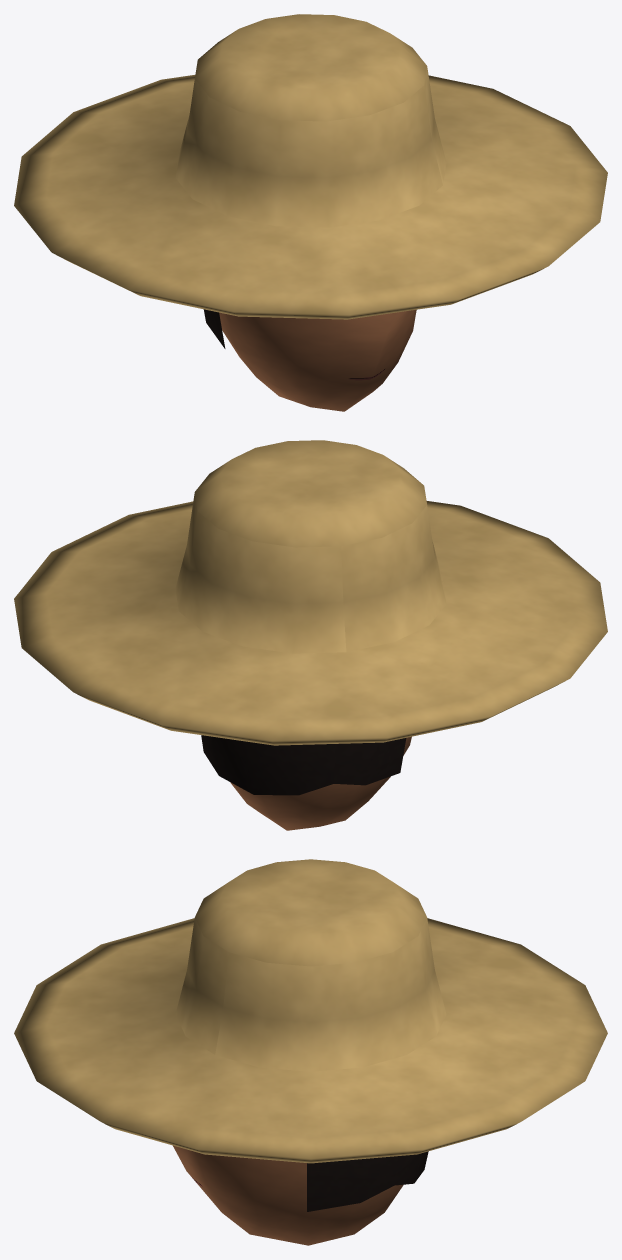
Rendered from cabeza.obj.
3 renders of one model, top to bottom at view 1: azimuth 30°, elevation 25°; view 2: azimuth 150°, elevation 25°; view 3: azimuth 270°, elevation 25°, orthographic.
Parts seen in each view (by area): view 1: Sombrero, Cabeza; view 2: Sombrero, Pelo, Cabeza; view 3: Sombrero, Cabeza, Pelo.
Part boxes in pixels (x1,y1,x2,y2): Sombrero: (14, 14, 607, 319); Cabeza: (219, 309, 416, 411); Sombrero: (14, 440, 607, 745); Pelo: (201, 735, 406, 795); Cabeza: (230, 736, 411, 830); Sombrero: (14, 859, 607, 1163); Cabeza: (173, 1145, 403, 1245); Pelo: (307, 1151, 428, 1211).
Size of the model in its own units: 0.46 by 0.2956 by 0.46.
3 materials, 3 textured.
